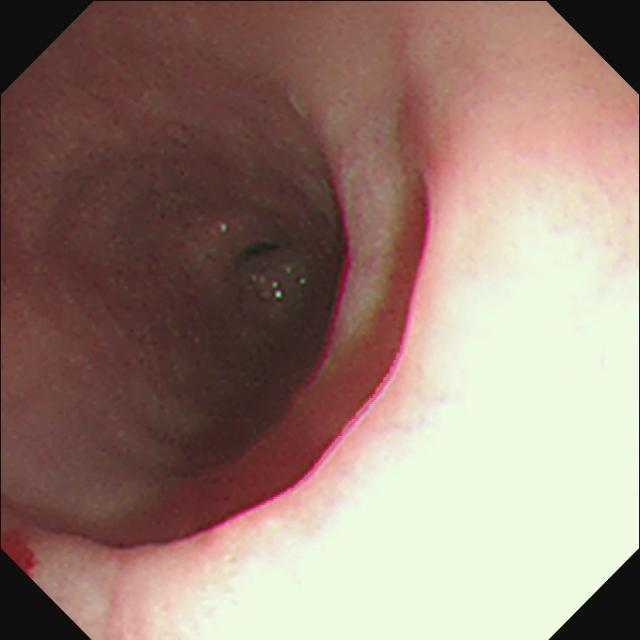C: (2, 532, 40, 575)
I: (162, 191, 327, 326)
